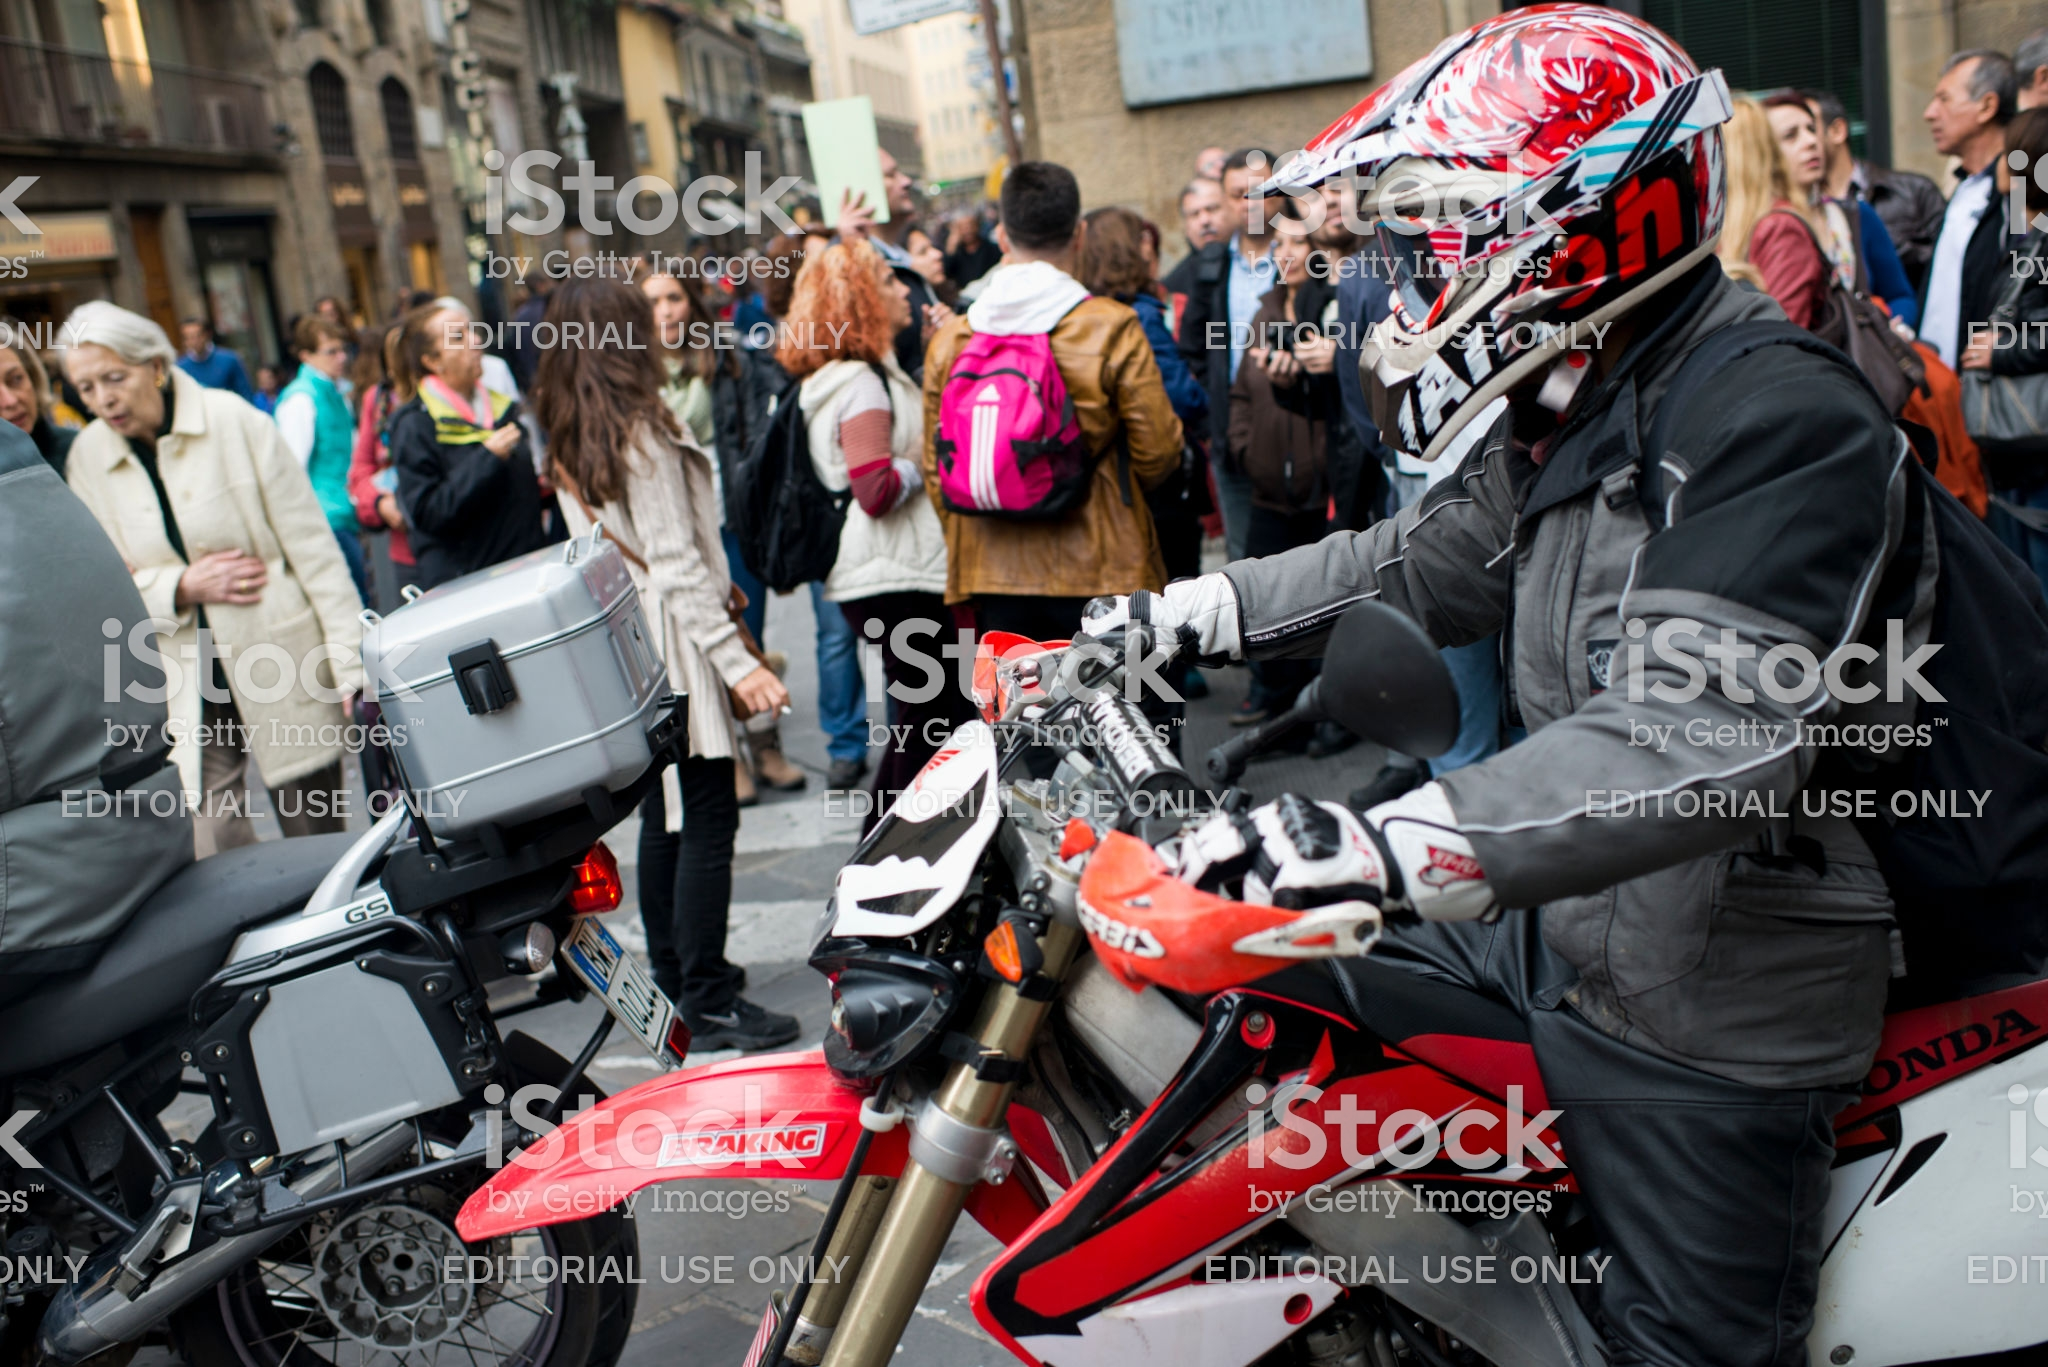helmet: (1304, 8, 1751, 374)
